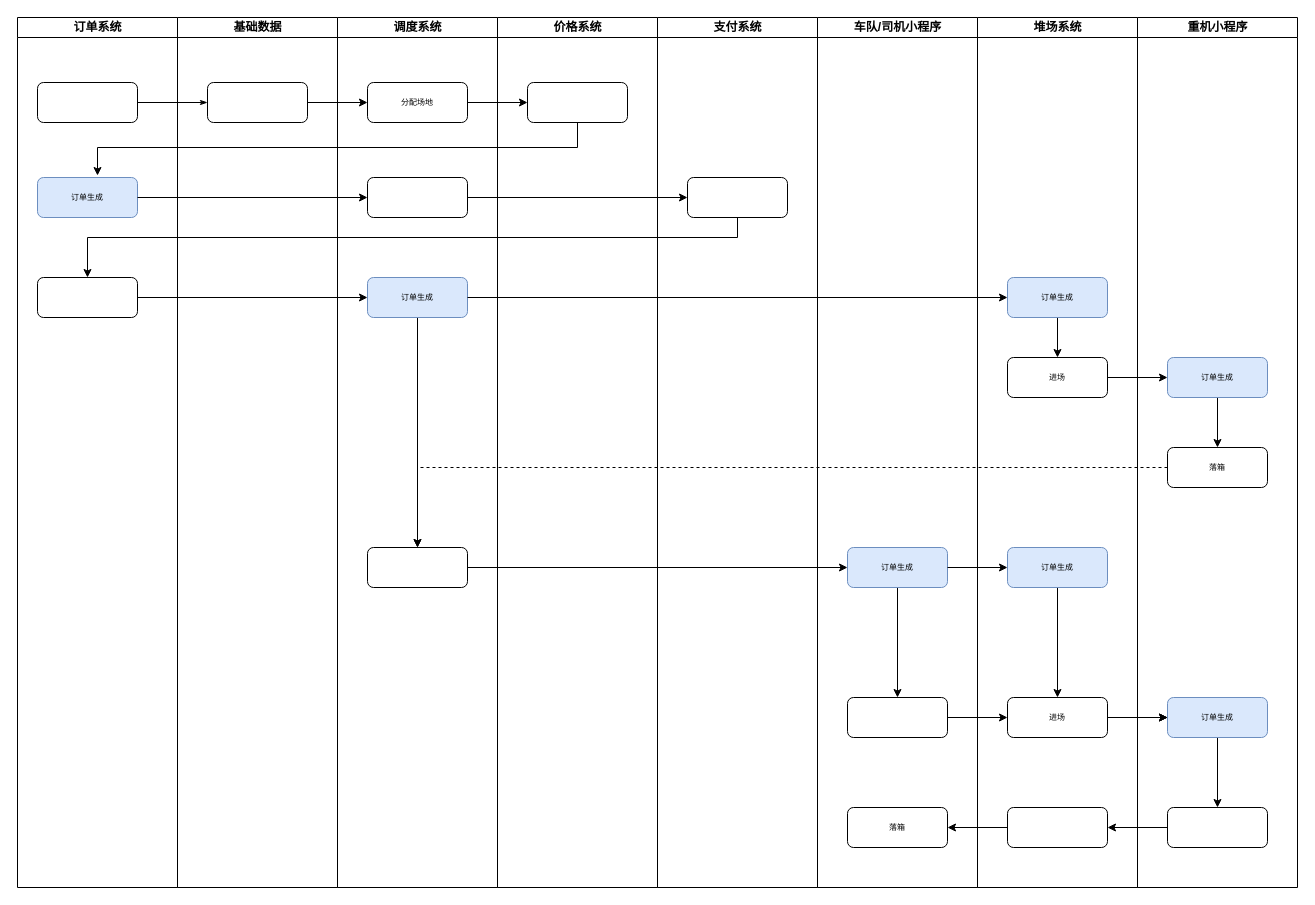
The diagram is 1315 pixels wide and 905 high, and some of its shapes have lost their labels. Each missing label, with the centre of its shape:
"下单" goes at point 87,102.
"出场" goes at point 1057,827.
"分配车队/司机" goes at point 417,567.
"到场" goes at point 897,717.
"场地锁定" goes at point 417,197.
"提箱" goes at point 1217,827.
"支付" goes at point 737,197.
"获取价格" goes at point 577,102.
"获取航次" goes at point 257,102.
"订单推送" goes at point 87,297.
